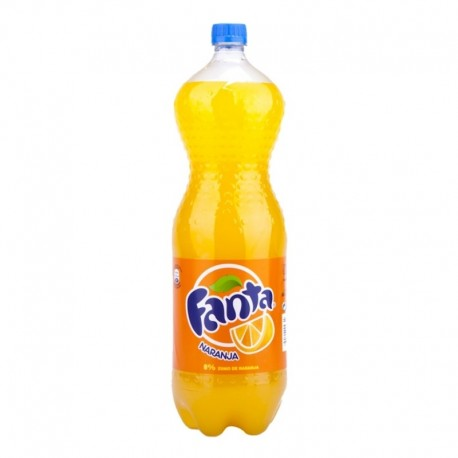botella: (169, 22, 289, 438)
